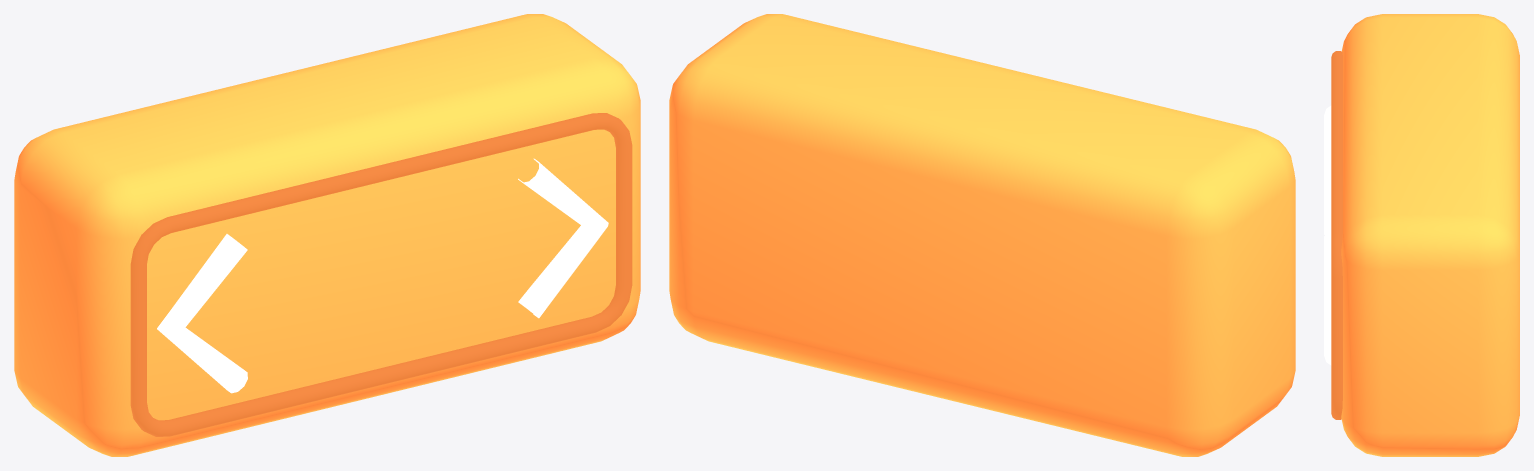
File: brick_glider.glb
3 views of the same model, side by side, from view 1: azimuth 30°, elevation 25°; view 2: azimuth 150°, elevation 25°; view 3: azimuth 270°, elevation 25° (orthographic). The views are drawn at different scales.
Visible parts, largest first — view 1: type_glider; view 2: type_glider; view 3: type_glider.
Boxes of the visible parts, <box> form: type_glider: <box>14,14,640,456</box>; type_glider: <box>669,14,1295,456</box>; type_glider: <box>1324,14,1519,456</box>.
Size of the model in its own units: 0.92 by 0.44 by 0.328.
